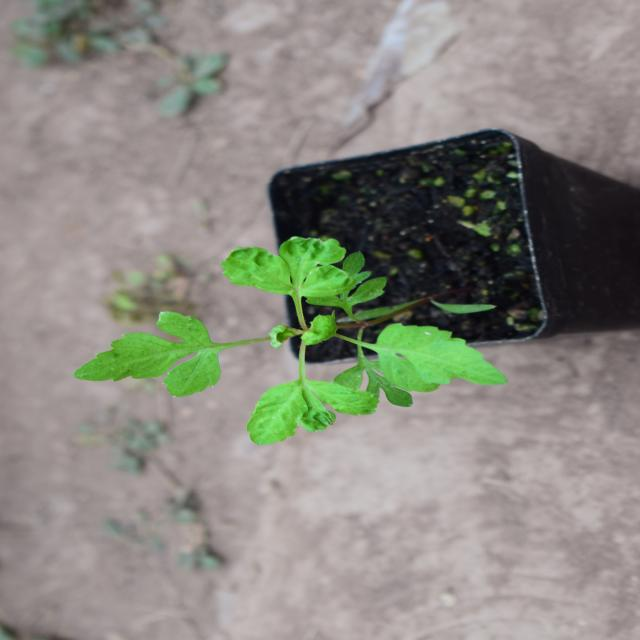Bidens pilosa: (179, 74, 410, 482)
